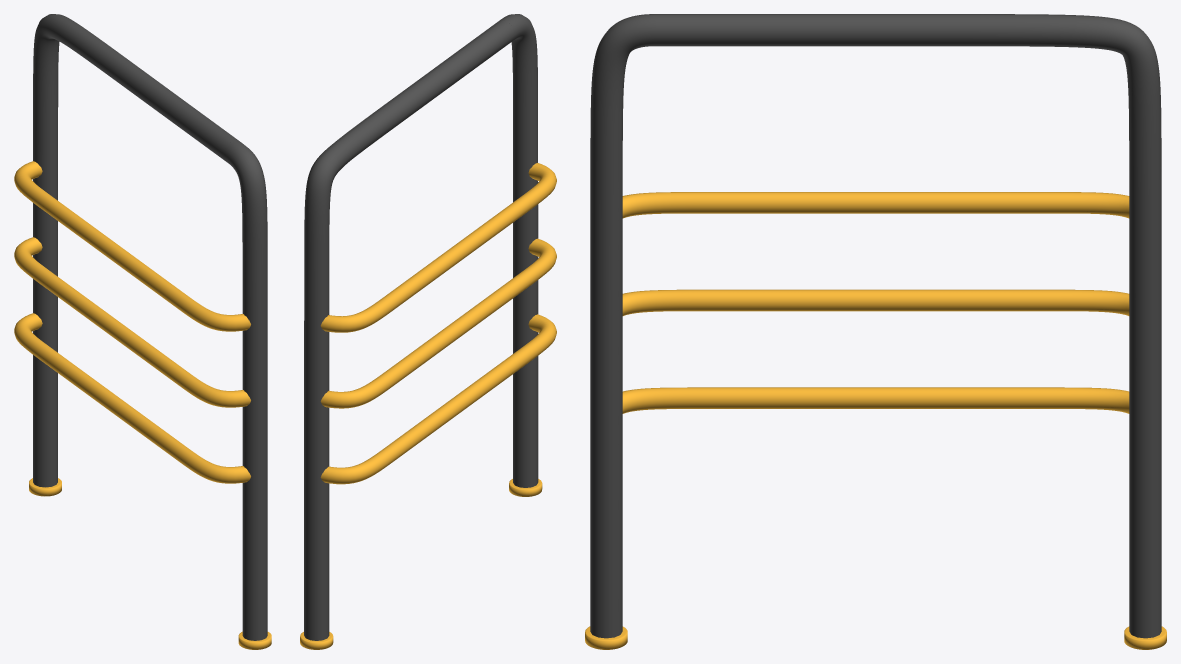
Rendered from Ringhiera1m.fbx.
The picture shows the model from 3 angles, left to right: view 1: azimuth 30°, elevation 25°; view 2: azimuth 150°, elevation 25°; view 3: azimuth 270°, elevation 25°; orthographic projection. The views are drawn at different scales.
Visible parts, largest first — view 1: MainStruct, BarraOriz1, BarraOriz3, BarraOriz2; view 2: MainStruct, BarraOriz1, BarraOriz2, BarraOriz3; view 3: MainStruct, BarraOriz1, BarraOriz2, BarraOriz3.
Part boxes in pixels (<box>): MainStruct: <box>33,14,267,640</box>; BarraOriz1: <box>14,237,250,407</box>; BarraOriz3: <box>14,161,250,331</box>; BarraOriz2: <box>14,313,250,483</box>; MainStruct: <box>304,14,538,640</box>; BarraOriz1: <box>320,238,556,408</box>; BarraOriz2: <box>320,314,556,484</box>; BarraOriz3: <box>320,163,556,332</box>; MainStruct: <box>590,14,1161,638</box>; BarraOriz1: <box>622,289,1129,315</box>; BarraOriz2: <box>622,387,1129,413</box>; BarraOriz3: <box>622,192,1129,218</box>.
Size of the model in its own units: 15.96 by 128 by 108.
